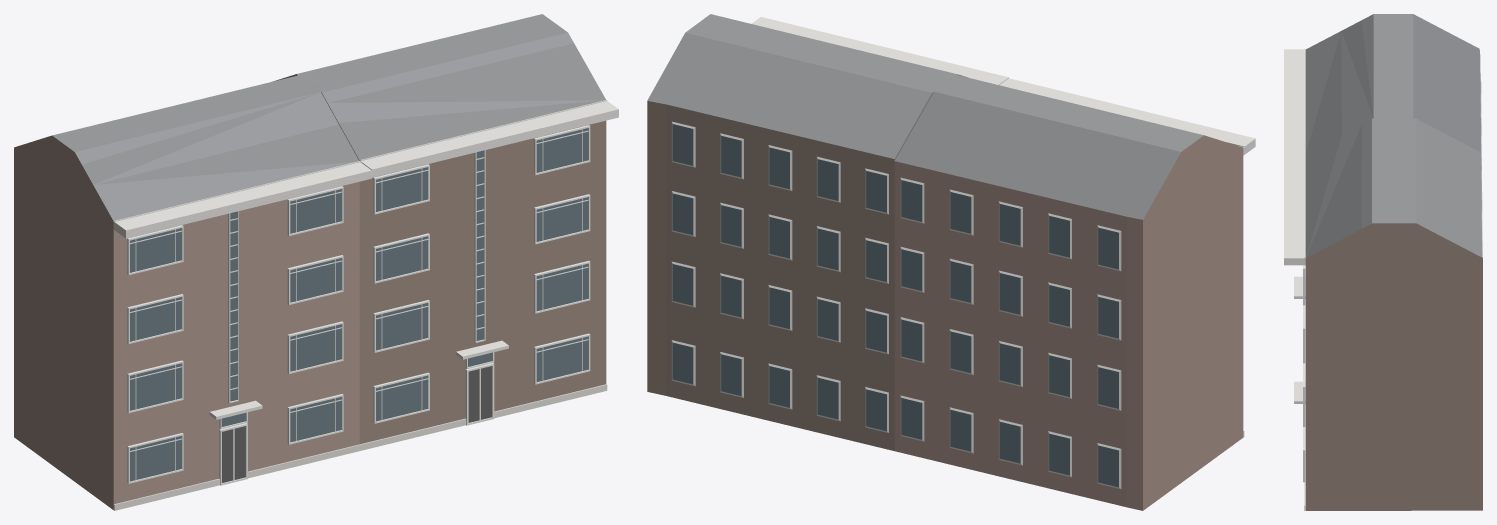
Rendered from chunk-face-hembrug-21-27.glb.
3 renders of one model, left to right at view 1: azimuth 30°, elevation 25°; view 2: azimuth 150°, elevation 25°; view 3: azimuth 270°, elevation 25°, orthographic. The views are drawn at different scales.
Visible parts, largest first — view 1: face-hembrug-21-27; view 2: face-hembrug-21-27; view 3: face-hembrug-21-27.
Part boxes in pixels (box(x1,y1,x2,y2)): face-hembrug-21-27: box(14, 14, 618, 510); face-hembrug-21-27: box(647, 14, 1255, 510); face-hembrug-21-27: box(1284, 14, 1482, 510).
Size of the model in its own units: 25.23 by 16.13 by 10.11.
